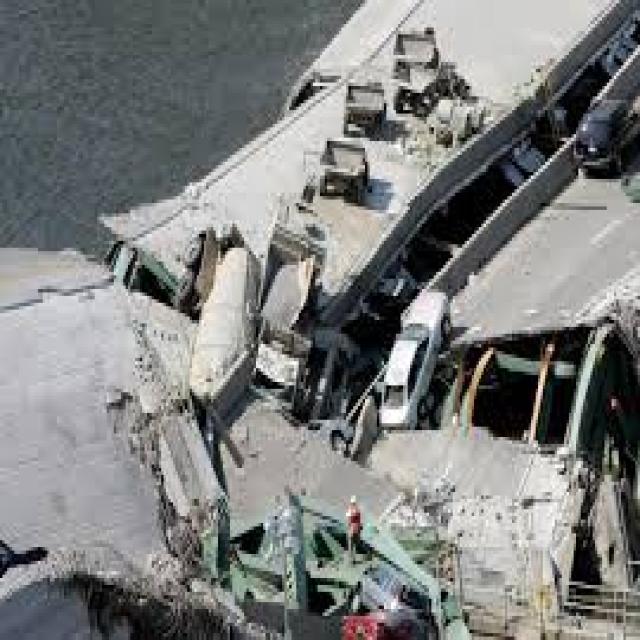bridge collapse: (22, 83, 640, 640)
